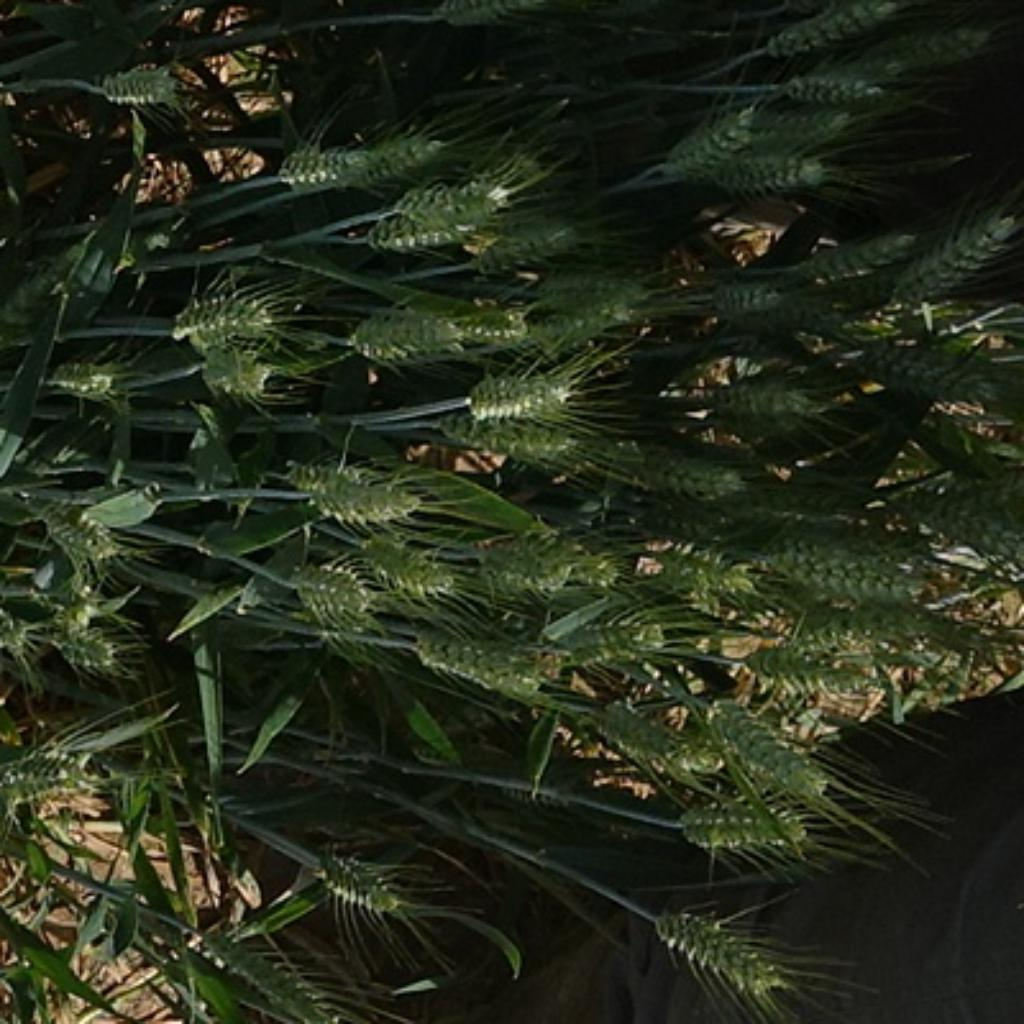0-0: (739, 527, 954, 634), (645, 888, 793, 1003), (734, 593, 885, 698), (821, 17, 1016, 92), (693, 693, 824, 798), (362, 176, 516, 255), (527, 258, 663, 345), (266, 128, 450, 192), (407, 614, 550, 696), (212, 937, 345, 1024), (898, 209, 1011, 309), (292, 455, 432, 532), (665, 785, 808, 857), (867, 343, 1003, 417), (343, 294, 471, 368), (706, 363, 834, 437), (908, 481, 1024, 560), (168, 276, 291, 350), (455, 363, 586, 430), (463, 409, 604, 471), (652, 104, 765, 181), (547, 604, 670, 673), (642, 533, 760, 602), (30, 496, 125, 581), (309, 839, 409, 919), (709, 151, 844, 209), (481, 202, 591, 273), (581, 693, 688, 765), (770, 0, 919, 51), (290, 548, 382, 628), (453, 542, 568, 604), (791, 230, 921, 284), (0, 737, 94, 811), (192, 330, 279, 409), (355, 529, 458, 593), (760, 66, 903, 112), (43, 599, 125, 678), (729, 478, 860, 524), (727, 115, 862, 158), (627, 445, 732, 499), (38, 345, 130, 404), (94, 61, 192, 111), (701, 279, 788, 325), (558, 535, 622, 593), (492, 771, 567, 819), (432, 0, 550, 30), (453, 299, 529, 345), (0, 596, 33, 673)
